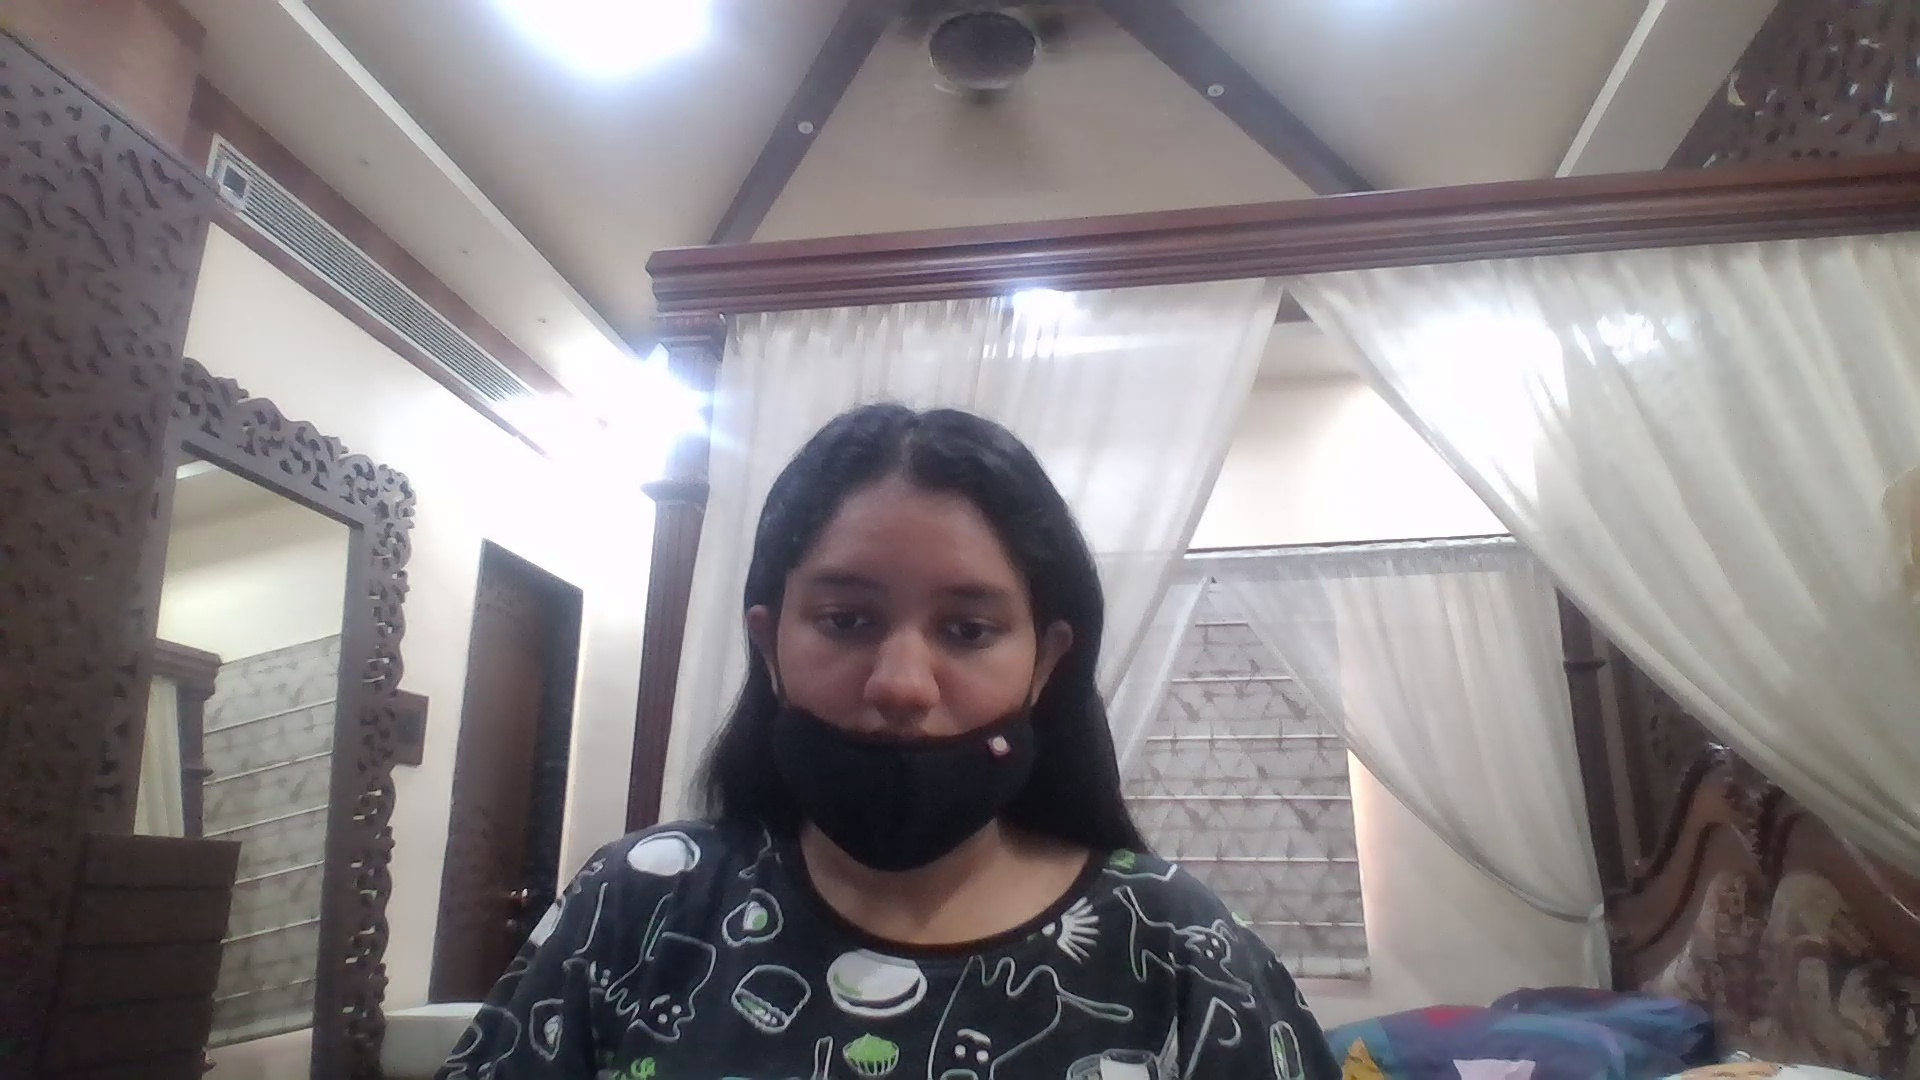No Mask: (773, 663, 1018, 898)
